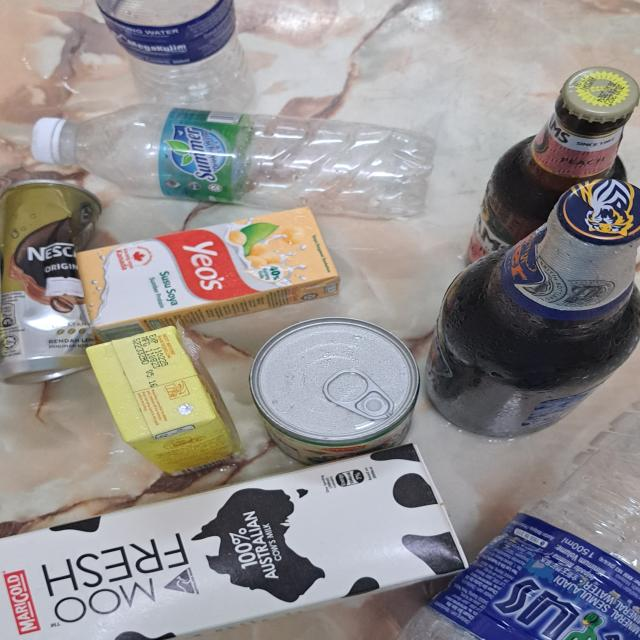can: (244, 314, 420, 468), (0, 175, 103, 379)
drink carton: (0, 443, 474, 639), (71, 205, 347, 329), (80, 323, 233, 474)
glass bottle: (427, 183, 640, 452), (473, 70, 632, 292)
plastic bottle: (423, 391, 640, 640), (69, 104, 441, 223), (93, 0, 244, 120)
plastic bottle cap: (26, 113, 66, 164)
pop tab: (324, 363, 392, 421)
